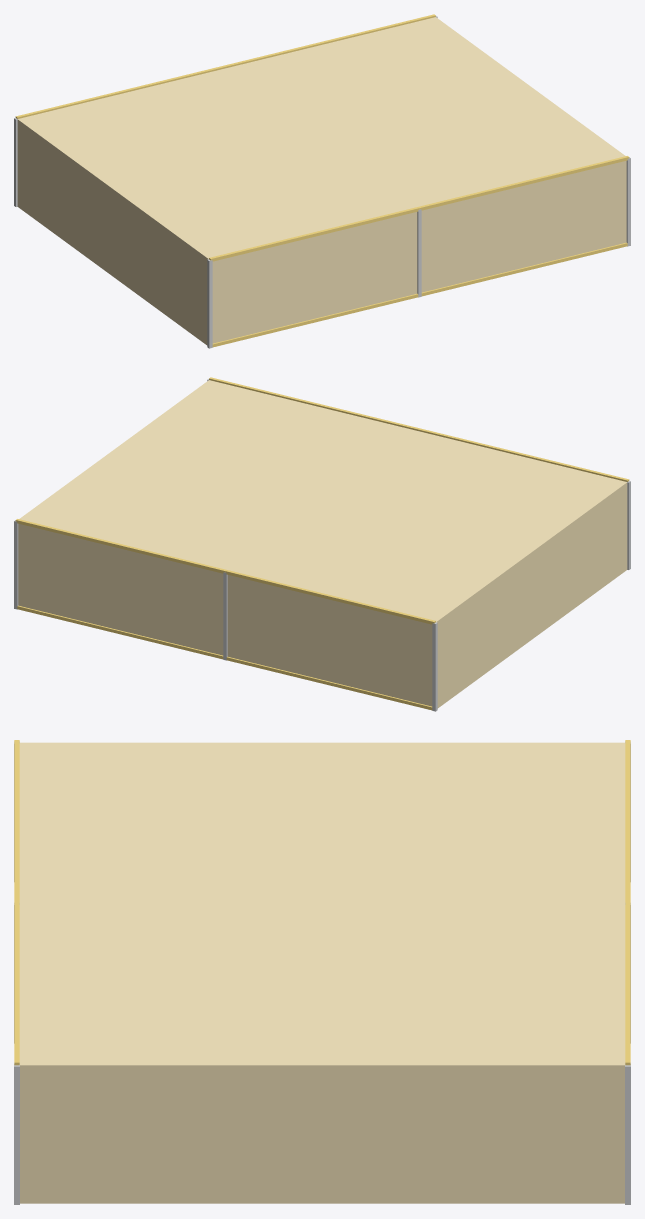
The model's file is Scaffold.glb.
3 views of the same model, one above another, from view 1: azimuth 30°, elevation 25°; view 2: azimuth 150°, elevation 25°; view 3: azimuth 270°, elevation 25° (orthographic). The views are drawn at different scales.
Visible parts, largest first — view 1: Scaffold_2, Scaffold_1, Scaffold_0; view 2: Scaffold_2, Scaffold_1, Scaffold_0; view 3: Scaffold_2, Scaffold_1, Scaffold_0.
Boxes of the visible parts, x1=… form: Scaffold_2: x1=17, y1=17, x2=626, y2=345; Scaffold_1: x1=15, y1=14, x2=629, y2=347; Scaffold_0: x1=14, y1=16, x2=630, y2=348; Scaffold_2: x1=18, y1=380, x2=627, y2=708; Scaffold_1: x1=15, y1=377, x2=629, y2=710; Scaffold_0: x1=14, y1=379, x2=630, y2=711; Scaffold_2: x1=19, y1=742, x2=625, y2=1203; Scaffold_1: x1=14, y1=740, x2=630, y2=1065; Scaffold_0: x1=14, y1=741, x2=630, y2=1204.
Bounding box in the file's own units: 50.4 × 10.18 × 40.4.
